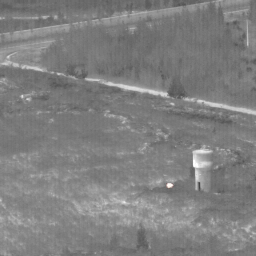Target: (165, 182, 173, 189)
